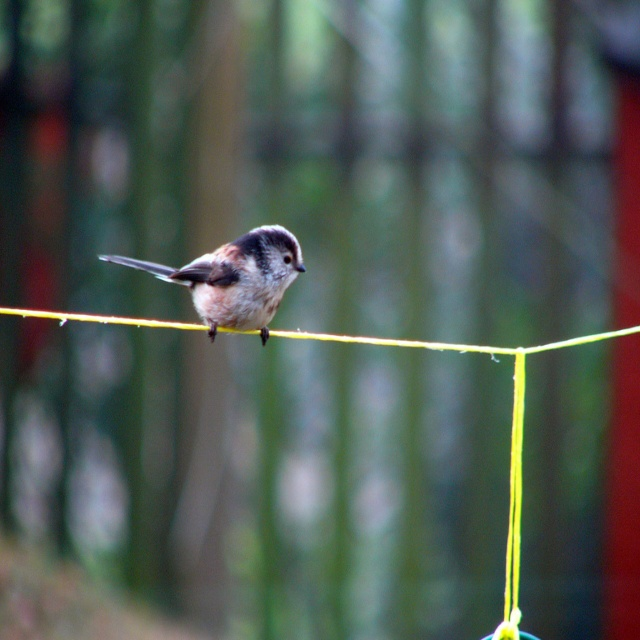Sparrow: (104, 227, 304, 348)
